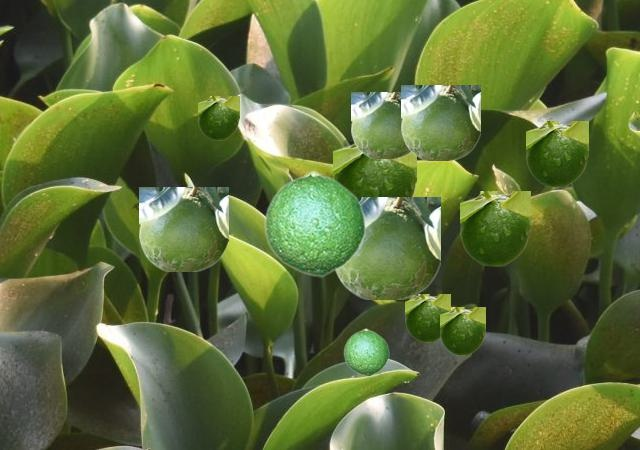dalandan: (263, 170, 365, 276), (335, 197, 439, 298), (139, 187, 227, 270), (401, 85, 479, 159), (460, 191, 529, 265), (333, 143, 415, 196), (526, 121, 587, 186), (351, 92, 410, 157), (343, 328, 388, 375), (405, 294, 449, 341), (440, 307, 484, 354), (198, 96, 238, 139)
